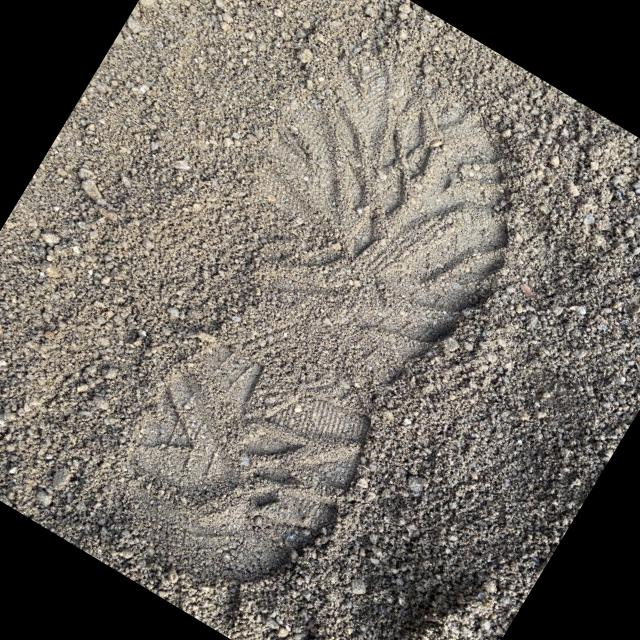human_foot_print: (90, 5, 534, 604)
